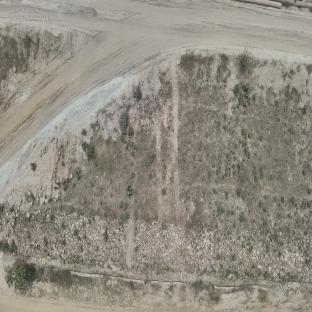rock_toe: (4, 212, 311, 281)
toe_drain: (16, 253, 312, 294)
